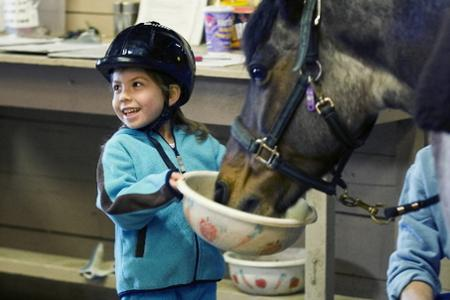person: (92, 21, 234, 300)
